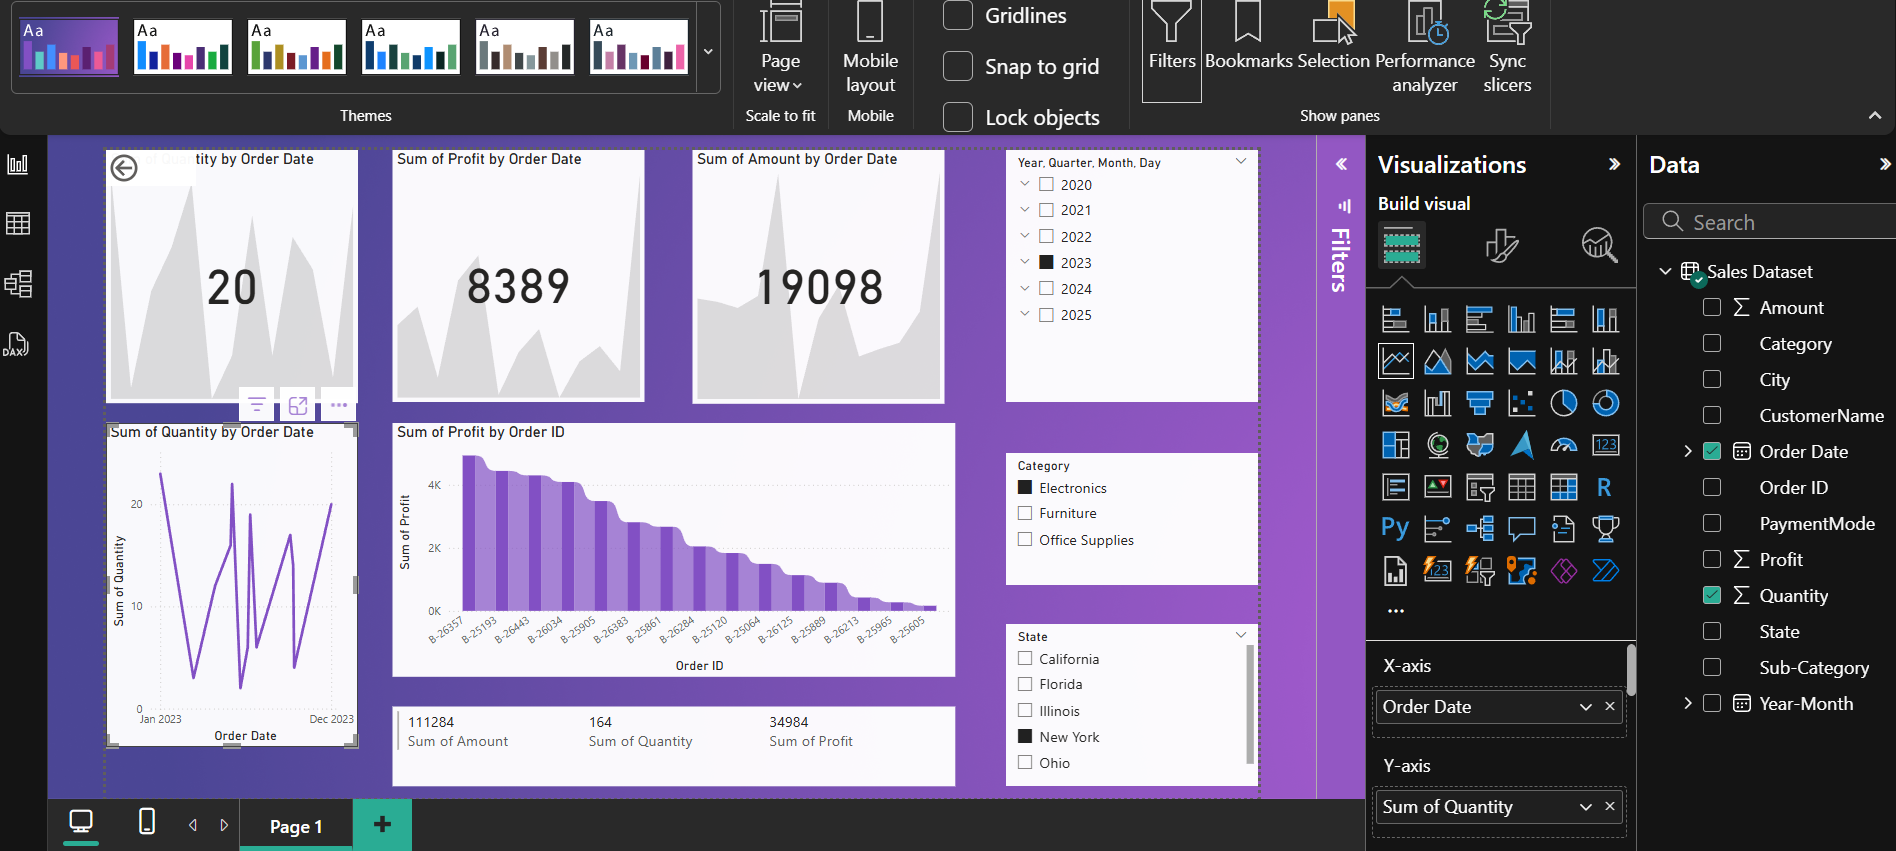

The dashboard page shown, as its layout file describes it:
{"tool":"powerbi","page":{"name":"Style-1","canvas":[1280,720],"ordinal":0},"visuals":[{"type":"kpi","fields":{"TrendLine":["Sales Dataset.Order Date"],"Indicator":["Sum(Sales Dataset.Profit)"]},"box":[318,0,280,280],"z":0},{"type":"kpi","fields":{"Indicator":["Sum(Sales Dataset.Quantity)"],"TrendLine":["Sales Dataset.Order Date"]},"box":[0,0,279.7,281.6],"z":1000},{"type":"kpi","fields":{"Indicator":["Sum(Sales Dataset.Amount)"],"TrendLine":["Sales Dataset.Order Date"]},"box":[651.7,0,280,281.7],"z":2000},{"type":"lineChart","fields":{"Y":["Sum(Sales Dataset.Quantity)"],"Category":["Sales Dataset.Order Date"]},"box":[0,303.3,280,360],"z":3000},{"type":"slicer","fields":{"Values":["Sales Dataset.Order Date.Variation.Date Hierarchy.Year","Sales Dataset.Order Date.Variation.Date Hierarchy.Quarter","Sales Dataset.Order Date.Variation.Date Hierarchy.Month","Sales Dataset.Order Date.Variation.Date Hierarchy.Day"]},"box":[1000,0,280,280],"z":4000},{"type":"slicer","fields":{"Values":["Sales Dataset.Category"]},"box":[1000,336.7,280,146.7],"z":5000},{"type":"actionButton","box":[0,0,100,40],"z":6000},{"type":"multiRowCard","fields":{"Values":["Sum(Sales Dataset.Amount)","Sum(Sales Dataset.Quantity)","Sum(Sales Dataset.Profit)"]},"box":[318.3,618.3,625,88.3],"z":6001},{"type":"ribbonChart","fields":{"Category":["Sales Dataset.Order ID"],"Y":["Sum(Sales Dataset.Profit)"]},"box":[318.3,303.3,625,281.7],"z":6002},{"type":"slicer","fields":{"Values":["Sales Dataset.State"]},"box":[1000,526.7,280,180],"z":6003}]}

Visuals, with their boxes on the page's 1280x720 design canvas (x1, y1, x2, y2). These are canvas units, not pixel positions in the 1896x851 screenshot, which may show the page scaled, cropped or inside an application window:
kpi - Sales Dataset.Order Date x Sum(Sales Dataset.Profit): x1=318, y1=0, x2=598, y2=280
kpi - Sum(Sales Dataset.Quantity) x Sales Dataset.Order Date: x1=0, y1=0, x2=280, y2=282
kpi - Sum(Sales Dataset.Amount) x Sales Dataset.Order Date: x1=652, y1=0, x2=932, y2=282
lineChart - Sum(Sales Dataset.Quantity) x Sales Dataset.Order Date: x1=0, y1=303, x2=280, y2=663
slicer - Sales Dataset.Order Date.Variation.Date Hierarchy.Year x Sales Dataset.Order Date.Variation.Date Hierarchy.Quarter: x1=1000, y1=0, x2=1280, y2=280
slicer - Sales Dataset.Category: x1=1000, y1=337, x2=1280, y2=483
actionButton: x1=0, y1=0, x2=100, y2=40
multiRowCard - Sum(Sales Dataset.Amount) x Sum(Sales Dataset.Quantity): x1=318, y1=618, x2=943, y2=707
ribbonChart - Sales Dataset.Order ID x Sum(Sales Dataset.Profit): x1=318, y1=303, x2=943, y2=585
slicer - Sales Dataset.State: x1=1000, y1=527, x2=1280, y2=707
